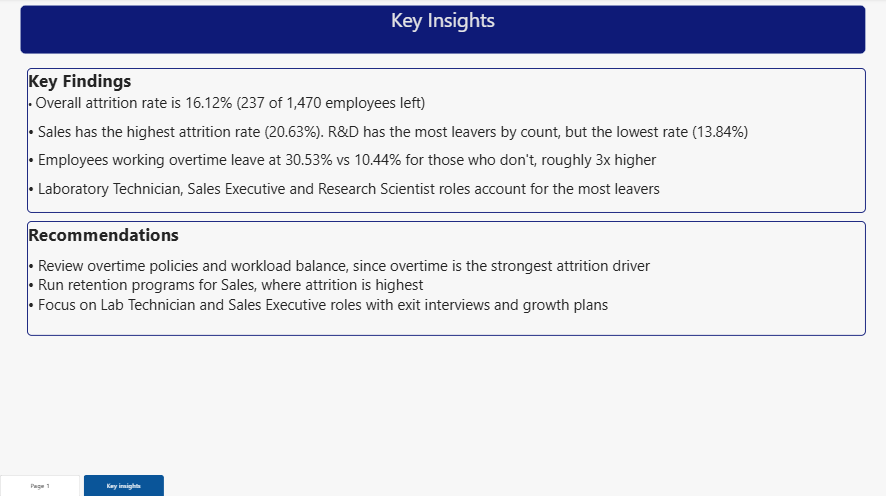

This screenshot's page, from the dashboard's own definition file:
{"tool":"powerbi","page":{"name":"Key insights","canvas":[1920,1080],"ordinal":1},"visuals":[{"type":"textbox","box":[58.3,151.2,697.7,388.8],"z":0},{"type":"textbox","box":[43.2,15.1,1827.4,105.8],"z":1},{"type":"pageNavigator","box":[0,1030.3,354.2,49.7],"z":2}]}

Visuals, with their boxes in screenshot pixels (x1, y1, x2, y2):
textbox: {"left": 26, "top": 64, "right": 342, "bottom": 240}
textbox: {"left": 20, "top": 2, "right": 847, "bottom": 50}
pageNavigator: {"left": 0, "top": 462, "right": 160, "bottom": 485}
